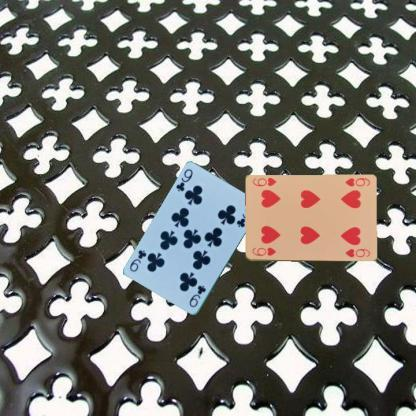6h: (342, 176, 372, 188), (249, 246, 276, 258)
9c: (186, 283, 208, 309), (173, 166, 194, 192)
